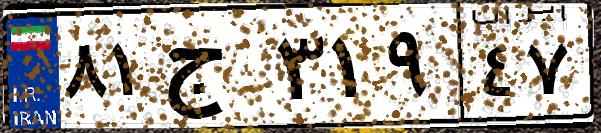1: (330, 28, 385, 110), (110, 28, 158, 98)
3: (270, 28, 330, 110)
4: (475, 38, 525, 113)
7: (525, 38, 570, 115)
8: (57, 26, 110, 100)
9: (385, 28, 445, 110)
ج: (158, 20, 270, 120)
